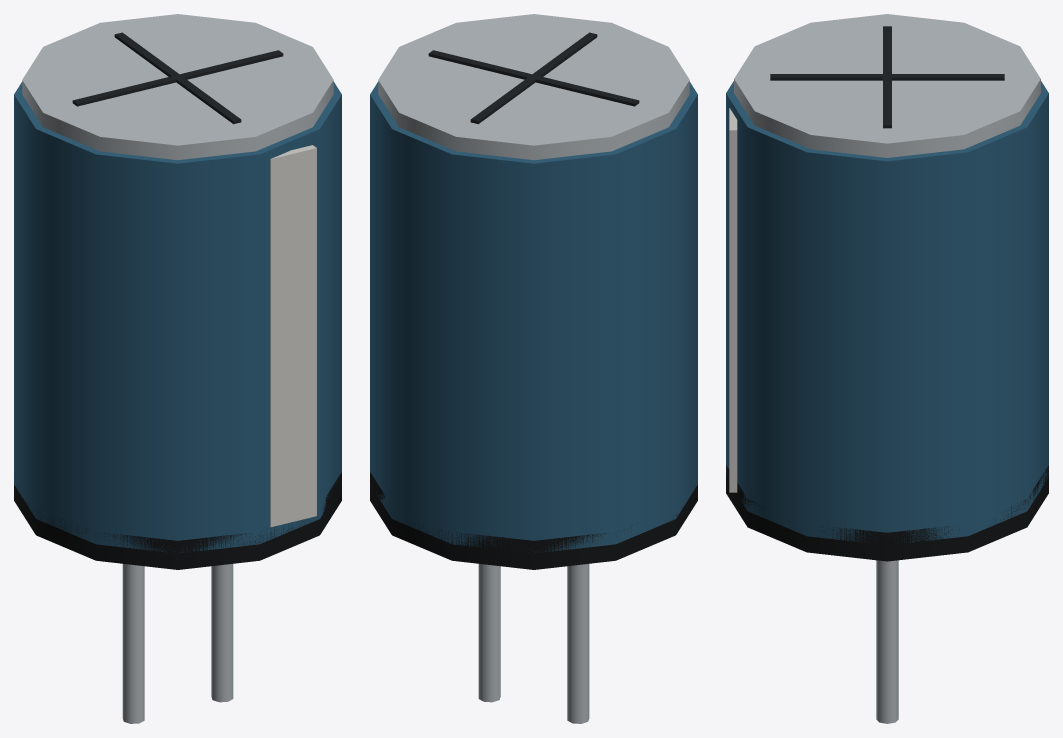
Rendered from cmp-capacitor-electrolytic.glb.
The picture shows the model from 3 angles, left to right: view 1: azimuth 30°, elevation 25°; view 2: azimuth 150°, elevation 25°; view 3: azimuth 270°, elevation 25°; orthographic projection.
Visible parts, largest first — view 1: STATIC_paint, STATIC_metal; view 2: STATIC_paint, STATIC_metal; view 3: STATIC_paint, STATIC_metal.
Boxes of the visible parts, x1,y1,x2,y2 form: STATIC_paint: (14, 32, 341, 569); STATIC_metal: (22, 14, 333, 723); STATIC_paint: (370, 32, 697, 569); STATIC_metal: (378, 14, 689, 723); STATIC_paint: (726, 26, 1048, 561); STATIC_metal: (734, 14, 1040, 723).
Bounding box in the file's own units: 0.008 × 0.017 × 0.008.
